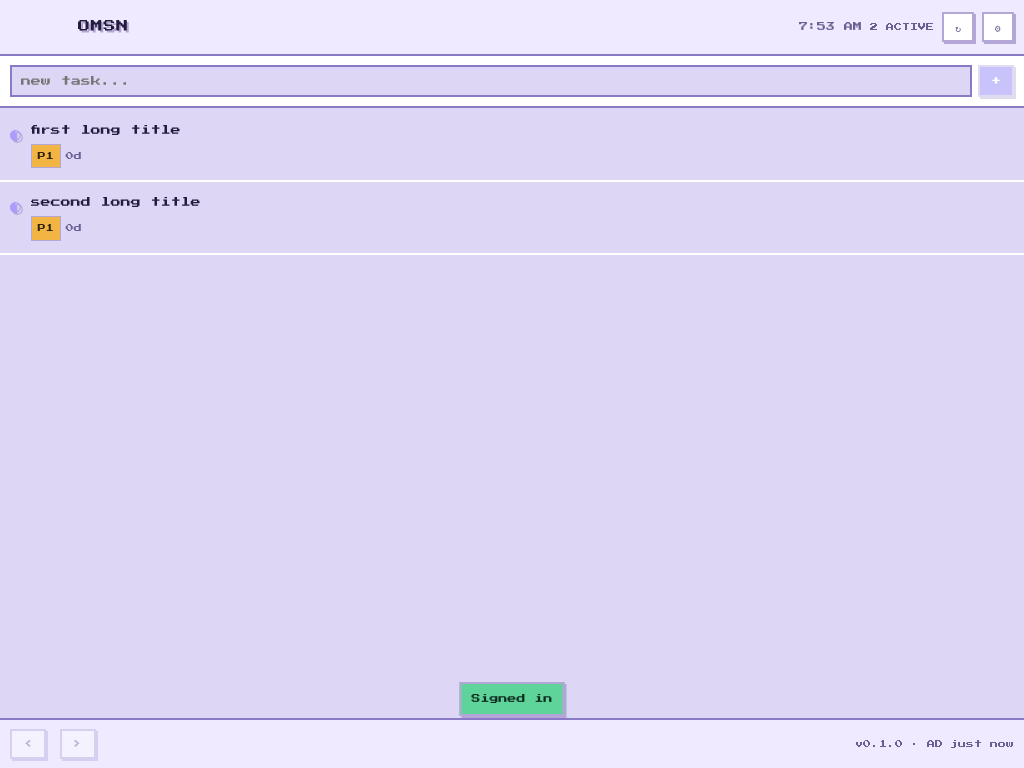
it: clicking a row to read a long title (R3) › expands at most one row at a time
Expected: the text "first long title" is shown, x1=31 y1=125 x2=181 y2=135
Click the button "first long title P1 0d".
click(106, 130)  # box x1=31 y1=125 x2=181 y2=168
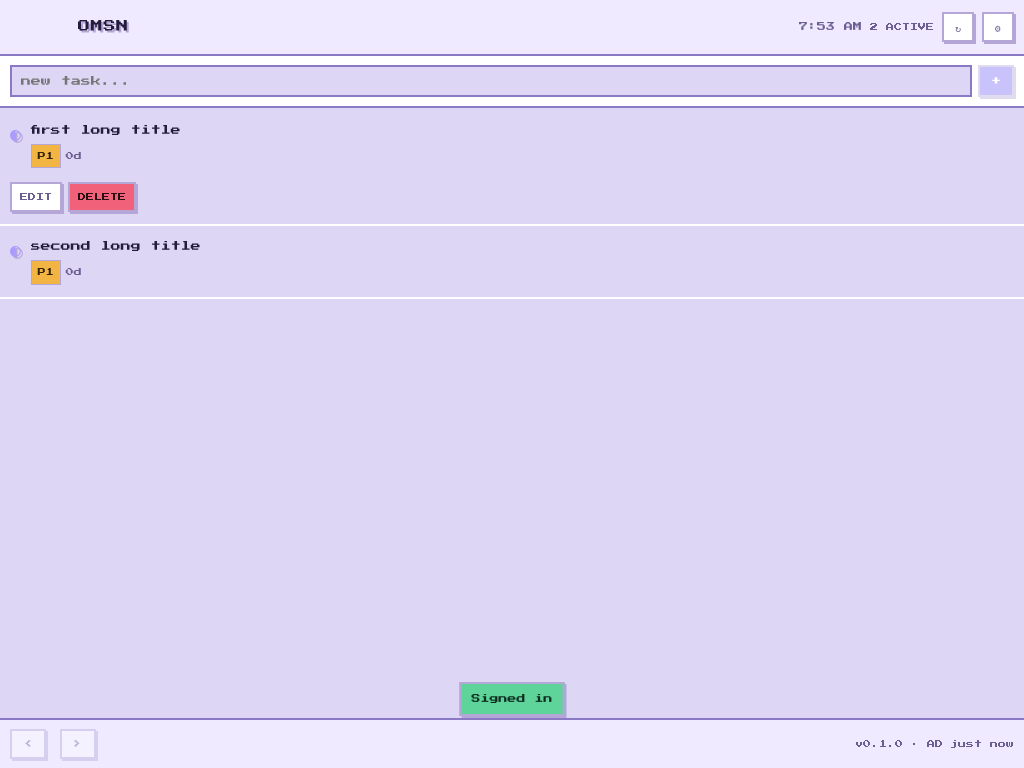
Click the button "second long title P1 0d".
click(116, 246)  # box x1=31 y1=241 x2=201 y2=285
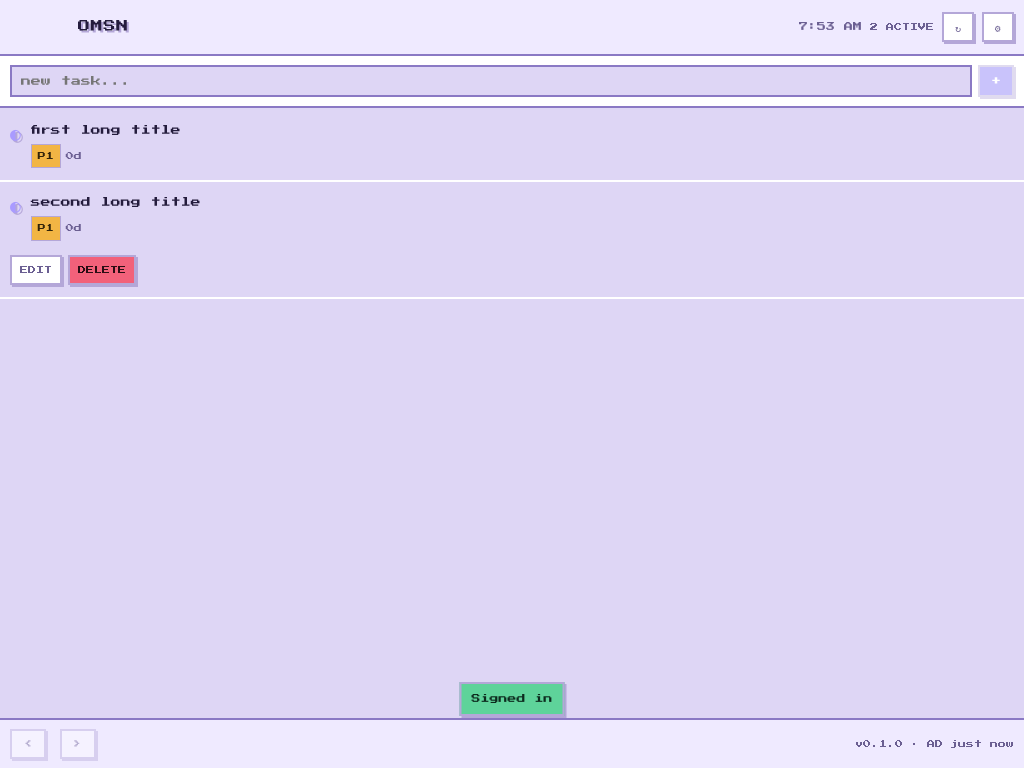
Expected: the number of elements with class "task__title--expanded" is 1, x1=31 y1=197 x2=201 y2=207
Result: the button "second long title P1 0d" is expanded at x1=31 y1=197 x2=201 y2=241
